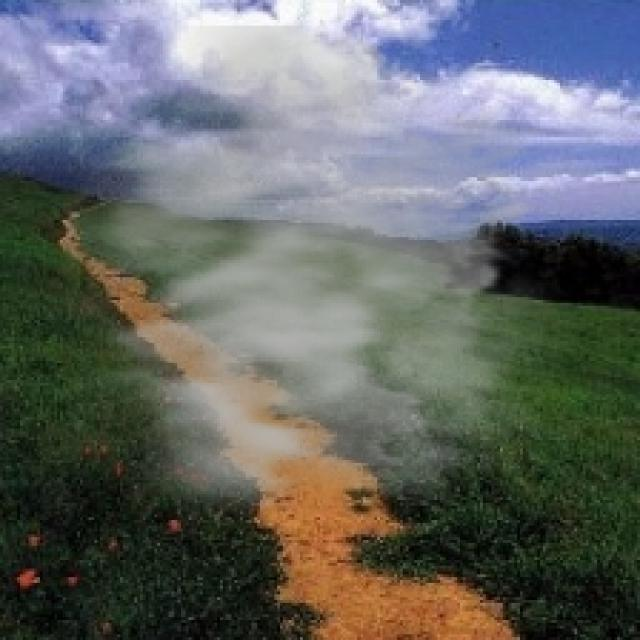smoke: (63, 26, 594, 543)
